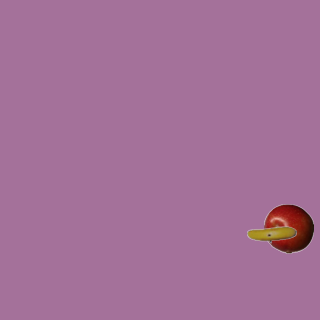Apple Braeburn: (263, 203, 313, 253)
Banana: (246, 209, 296, 259)
